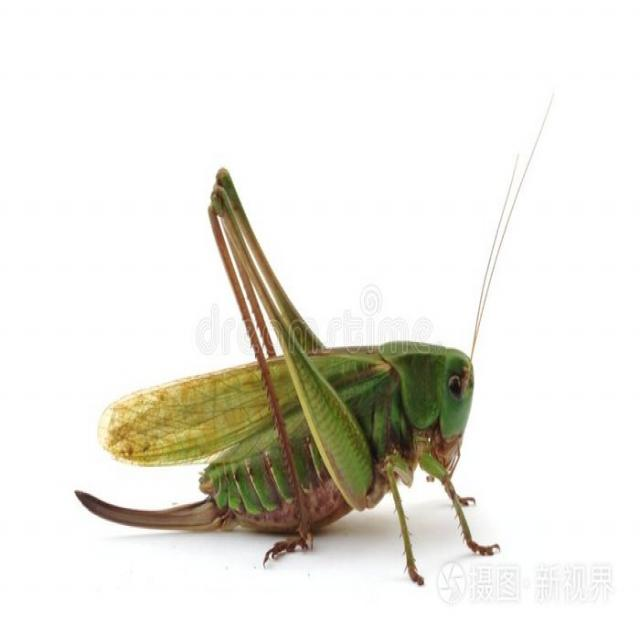ZhaMeng: (67, 162, 534, 580)
